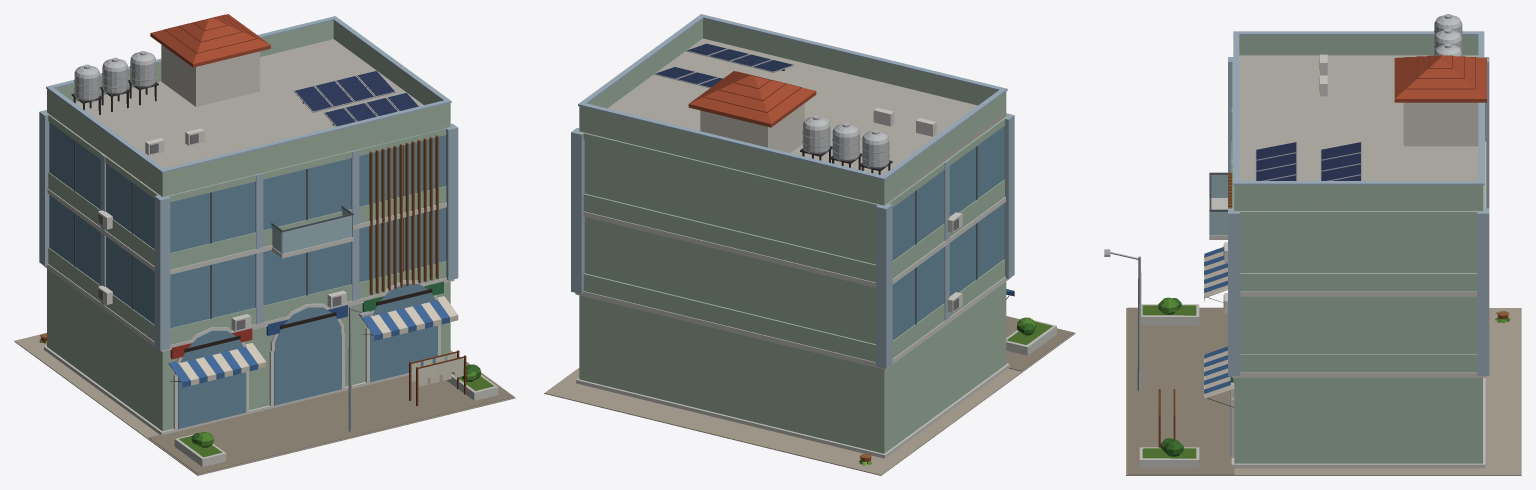
File: shop_2.glb
The picture shows the model from 3 angles, left to right: view 1: azimuth 30°, elevation 25°; view 2: azimuth 150°, elevation 25°; view 3: azimuth 270°, elevation 25°; orthographic projection. The views are drawn at different scales.
Visible parts, largest first — view 1: body; view 2: body; view 3: body.
Part boxes in pixels (<box>): body: <box>14,14,515,475</box>; body: <box>544,14,1075,475</box>; body: <box>1104,14,1521,475</box>.
Bounding box in the file's own units: 15.9 × 15.2 × 16.77.
